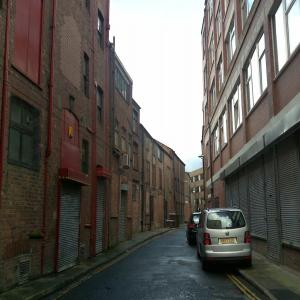Vehicle-registration-plate: (221, 239, 237, 244)
